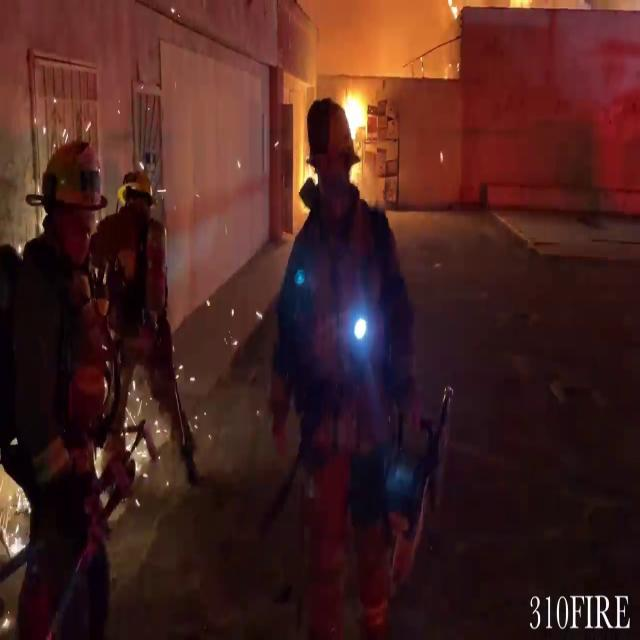Fire: (338, 80, 374, 152)
